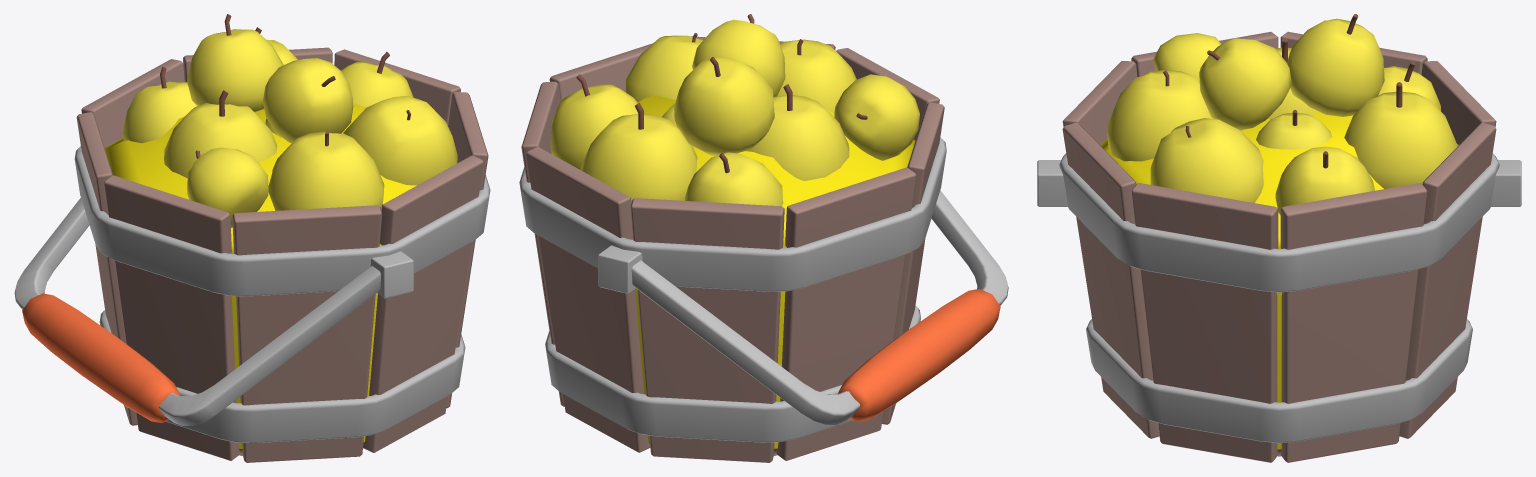
Rendered from Farm_1_Bucket_with_apples_1.glb.
3 renders of one model, left to right at view 1: azimuth 30°, elevation 25°; view 2: azimuth 150°, elevation 25°; view 3: azimuth 270°, elevation 25°, orthographic. The views are drawn at different scales.
Visible parts, largest first — view 1: Farm_1_Bucket_with_apples_1; view 2: Farm_1_Bucket_with_apples_1; view 3: Farm_1_Bucket_with_apples_1.
Part boxes in pixels (left/top/right/bottom): Farm_1_Bucket_with_apples_1: left=14, top=14, right=490, bottom=462; Farm_1_Bucket_with_apples_1: left=519, top=14, right=1008, bottom=462; Farm_1_Bucket_with_apples_1: left=1037, top=14, right=1521, bottom=462.
Size of the model in its own units: 0.8386 by 0.7329 by 0.8774.
Materials: 1 (1 with a texture image).
